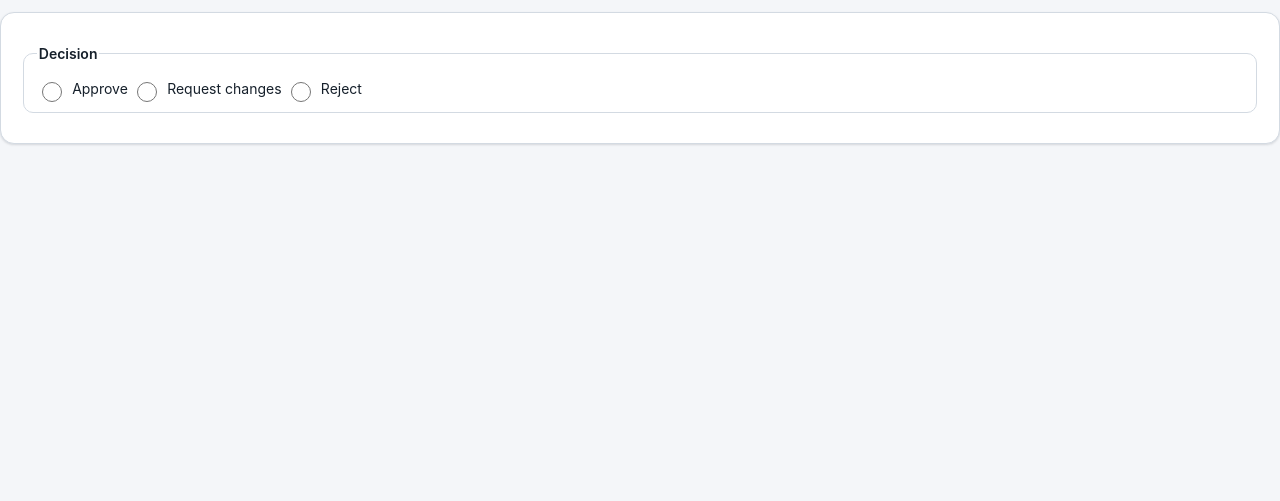
Test: AC-SEC-03z the approve button stays disabled until the prefix matches › AC-SEC-03z typed 3f9a0c13 is disabled
This screenshot has width=1280, height=501.
Step 1. Click the radio button labelled "Approve" → (52, 92), box [42, 82, 62, 102]
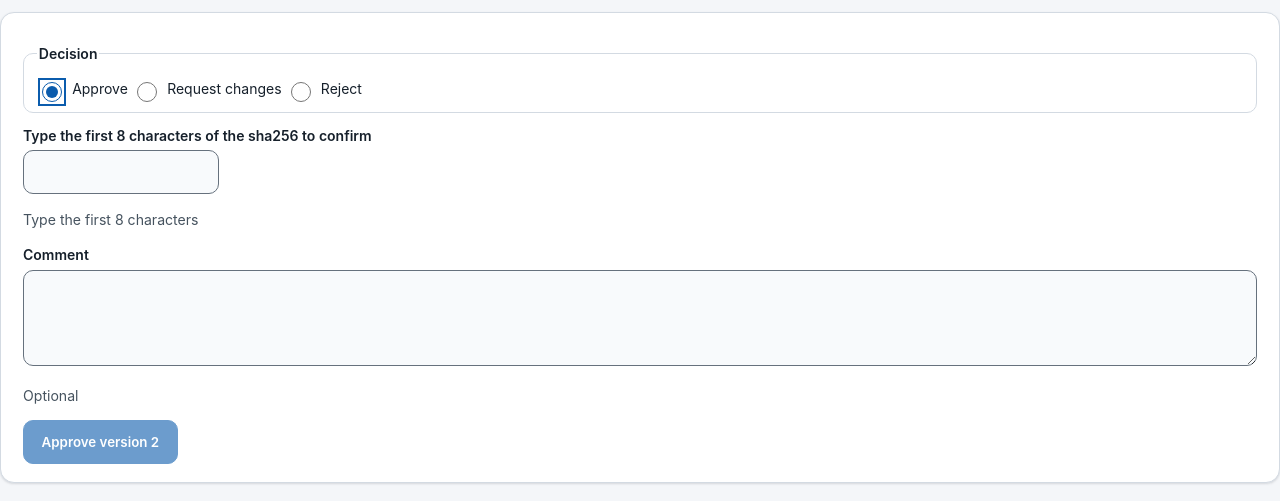
Step 2. Type "3f9a0c13" into the field labelled "Type the first 8 characters of the sha256 to confirm" → (121, 172), box [23, 150, 219, 194]
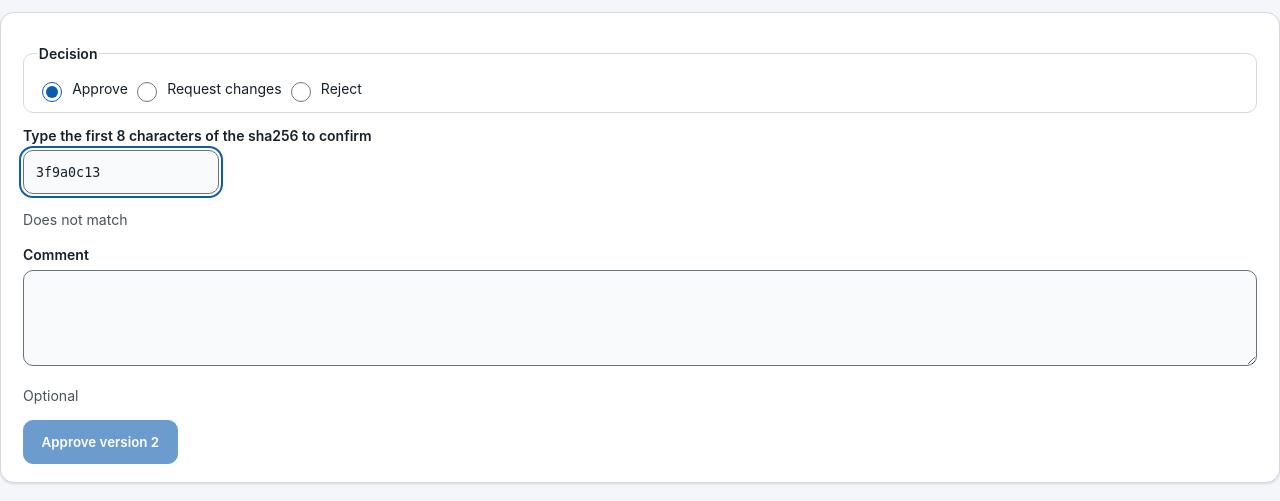
expect the button "Approve version 2" is disabled: met, box [23, 420, 178, 464]
expect the text "Does not match" is shown: met, box [23, 210, 128, 228]
